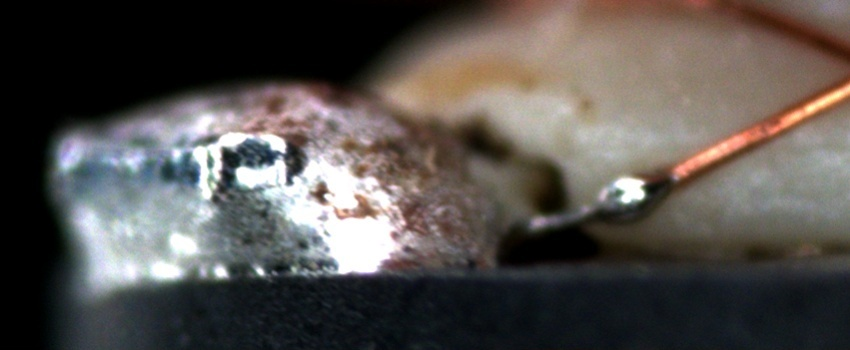DL: (721, 119, 849, 173)
TB: (596, 165, 672, 229)
TS: (531, 175, 674, 234)
TTCW: (522, 144, 715, 238)
